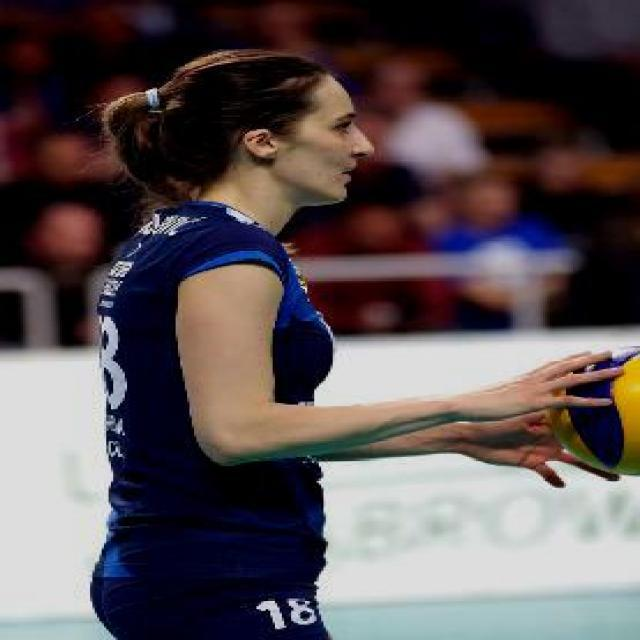volleyball: (544, 346, 639, 476)
